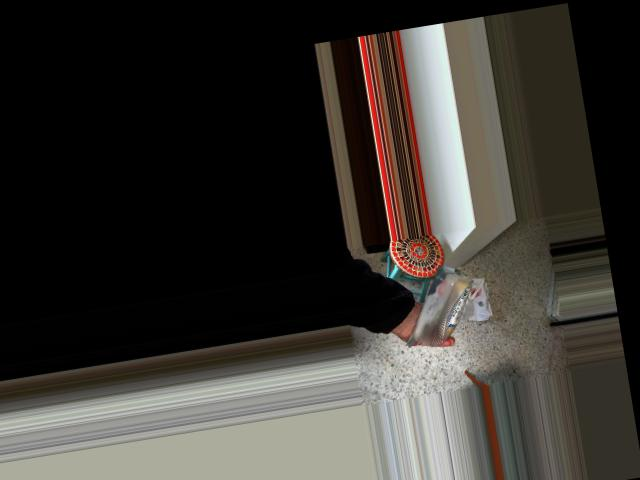cheese: (386, 235, 505, 358)
